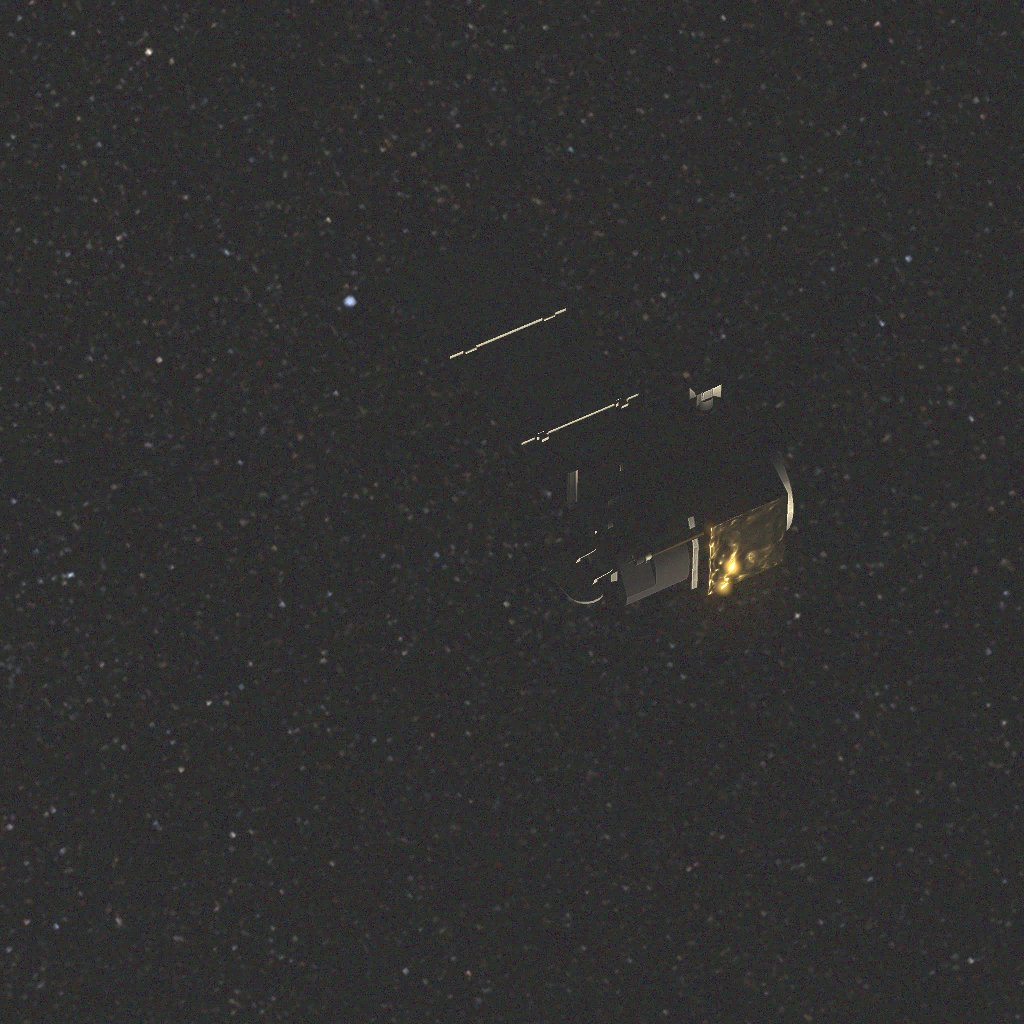earth_observation_sat_1: (404, 276, 788, 620)
